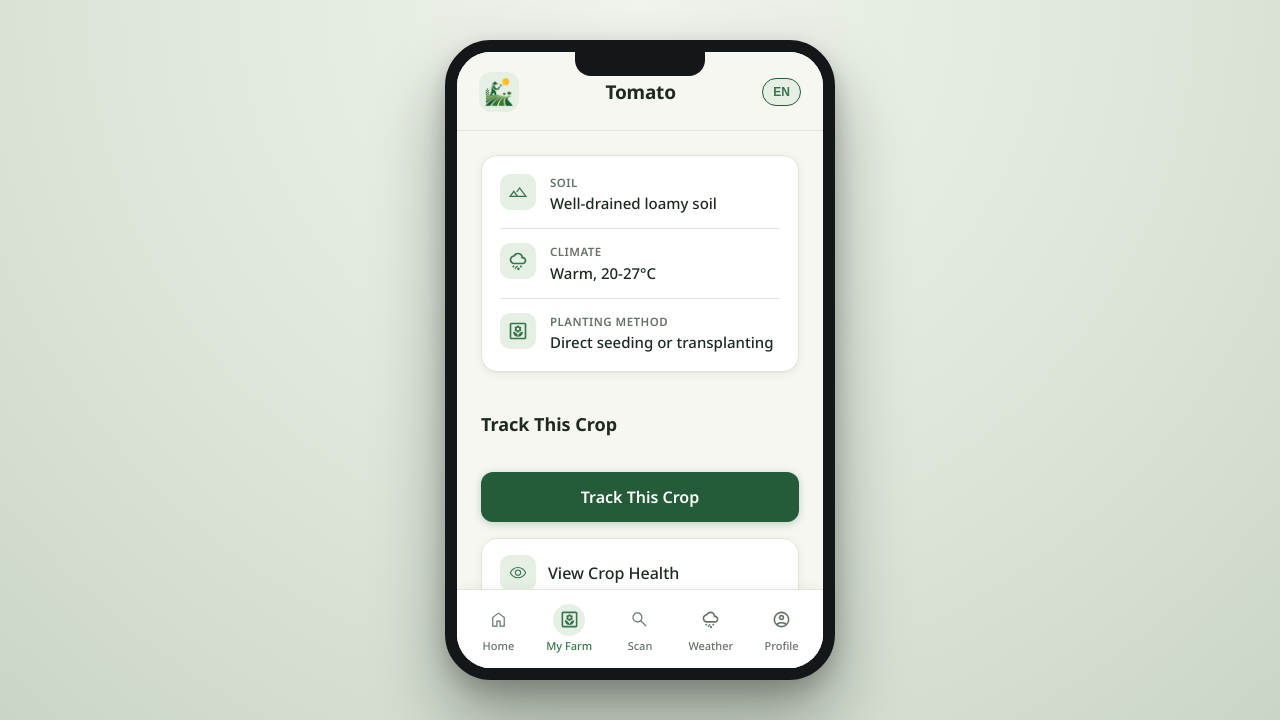
Scenario: CropDetailPage › Track This Crop (Task 6) › surfaces the backend's specific validation message instead of the generic save error
Step 1. Click the button "Track This Crop" → (640, 497), box [481,472,799,522]
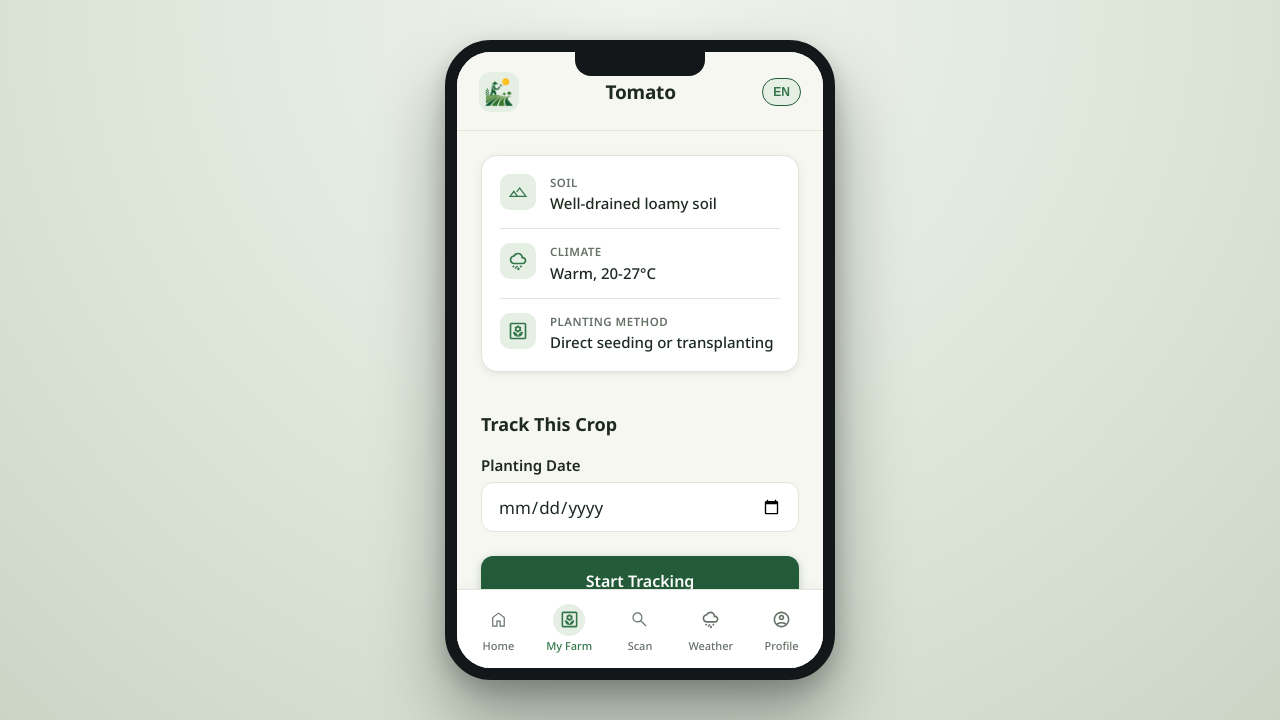
Step 2. Type "2026-09-01" into the date field labelled "Planting Date" → (640, 507), box [481,482,799,532]
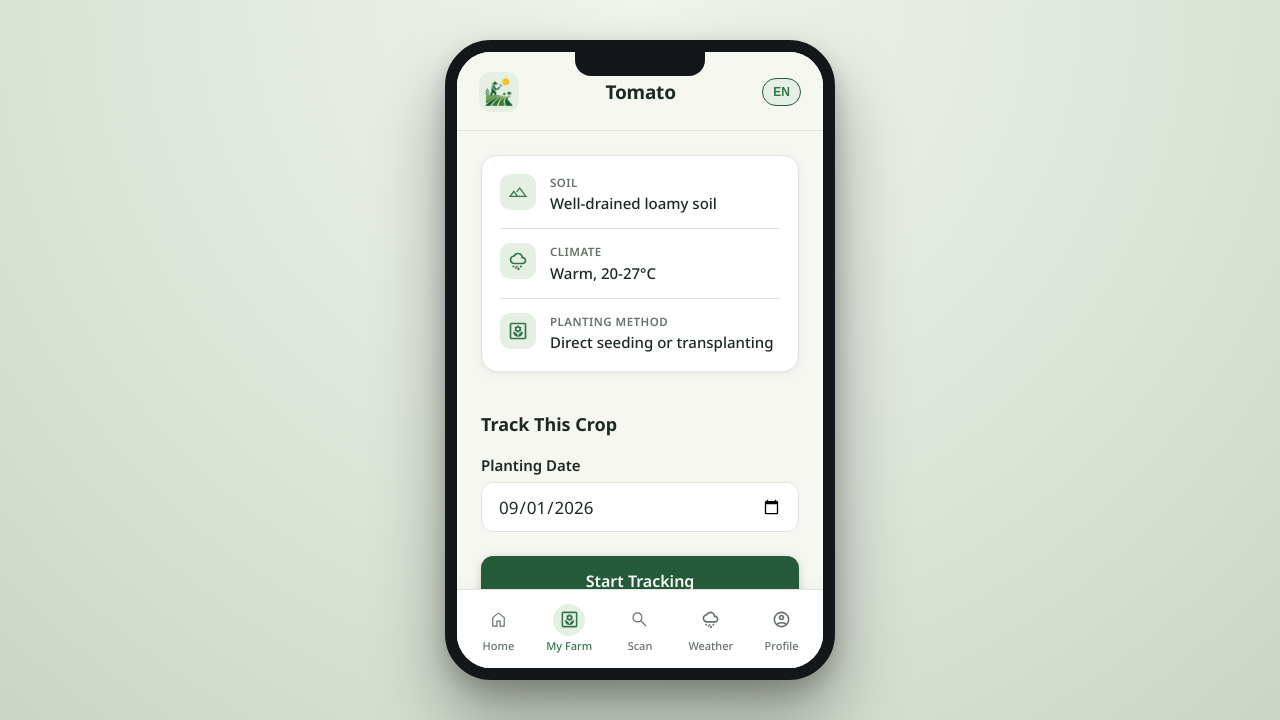
Step 3. Click the button "Start Tracking" → (640, 581), box [481,556,799,606]
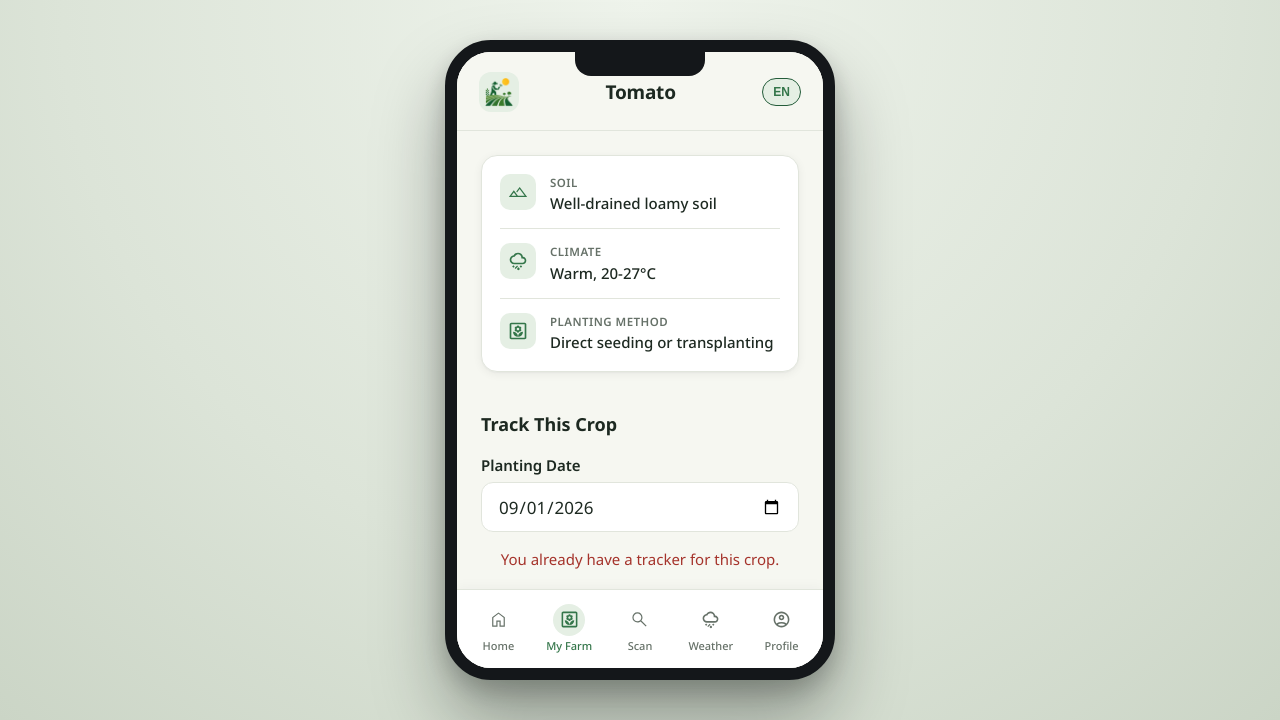
Now the message shows "You already have a tracker for this crop", box [501,549,779,569]
